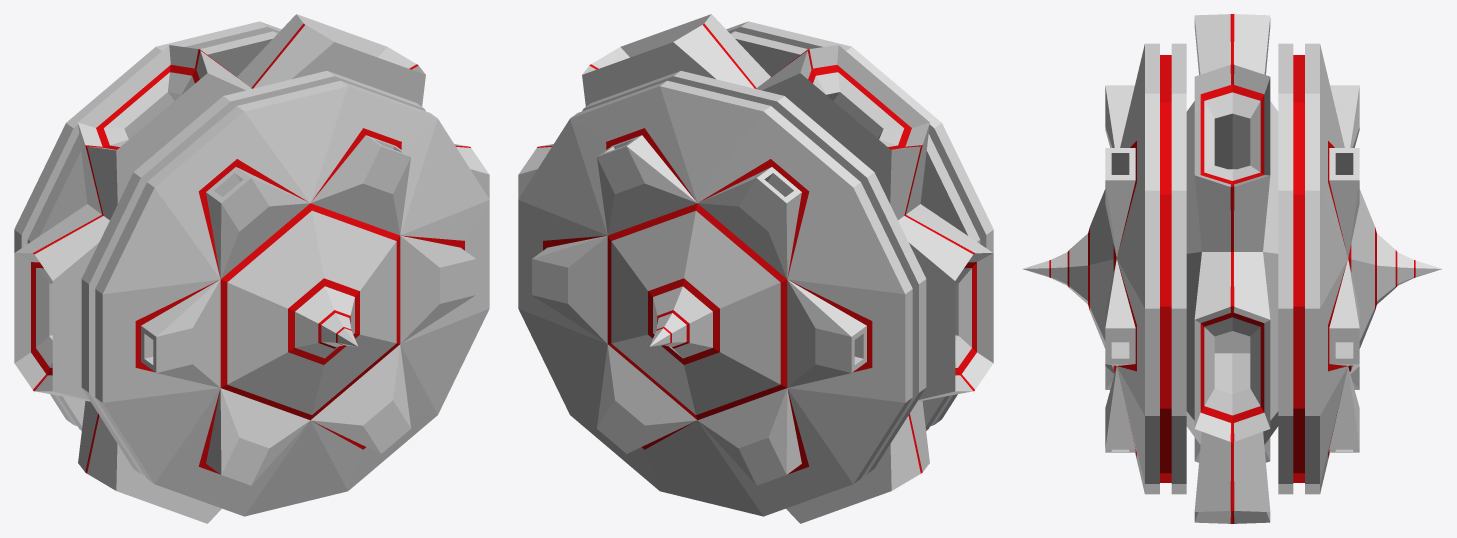
Rendered from Terminal.fbx.
3 renders of one model, left to right at view 1: azimuth 30°, elevation 25°; view 2: azimuth 150°, elevation 25°; view 3: azimuth 270°, elevation 25°, orthographic.
Visible parts, largest first — view 1: Terminal; view 2: Terminal; view 3: Terminal.
Part boxes in pixels (x1=…): Terminal: x1=14, y1=14, x2=489, y2=523; Terminal: x1=518, y1=14, x2=993, y2=523; Terminal: x1=1023, y1=14, x2=1441, y2=523.
Size of the model in its own units: 12.63 by 12.85 by 10.65.
